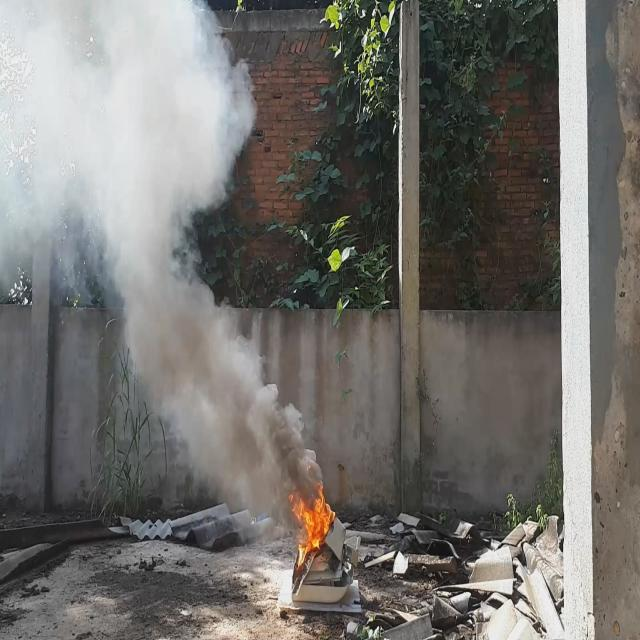Fire: (289, 467, 336, 567)
Smoke: (0, 0, 327, 518)
